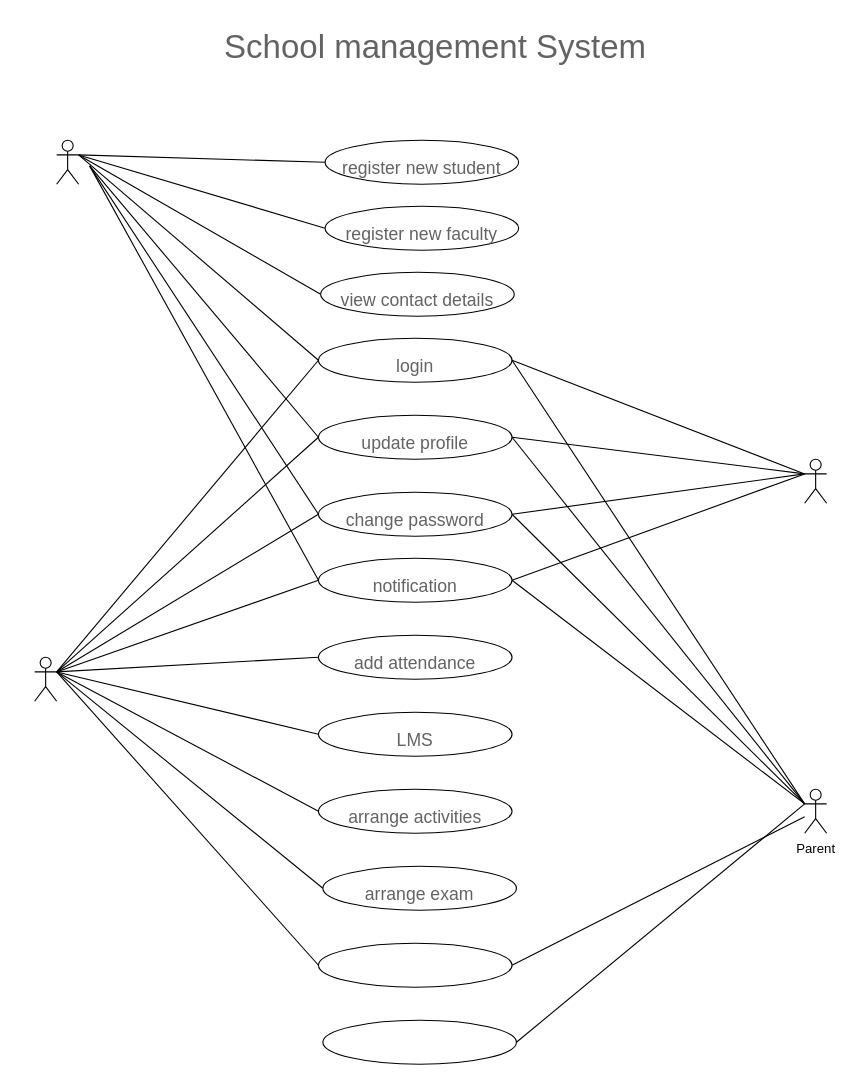
Some shapes in this 857 by 1084 pixel diagram are drawn without their labels. The shapes that lost their labels are listed below. From the top down, each one's box as (x1, y1, x2, y2) in pixels, then its label:
(56, 139, 79, 184): Admin
(804, 458, 827, 503): Student
(34, 656, 57, 701): Teachers
(317, 942, 512, 987): result
(322, 1019, 516, 1064): pay fees
